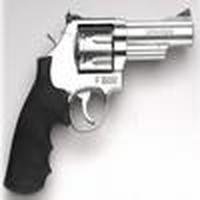gun: (7, 13, 191, 191)
